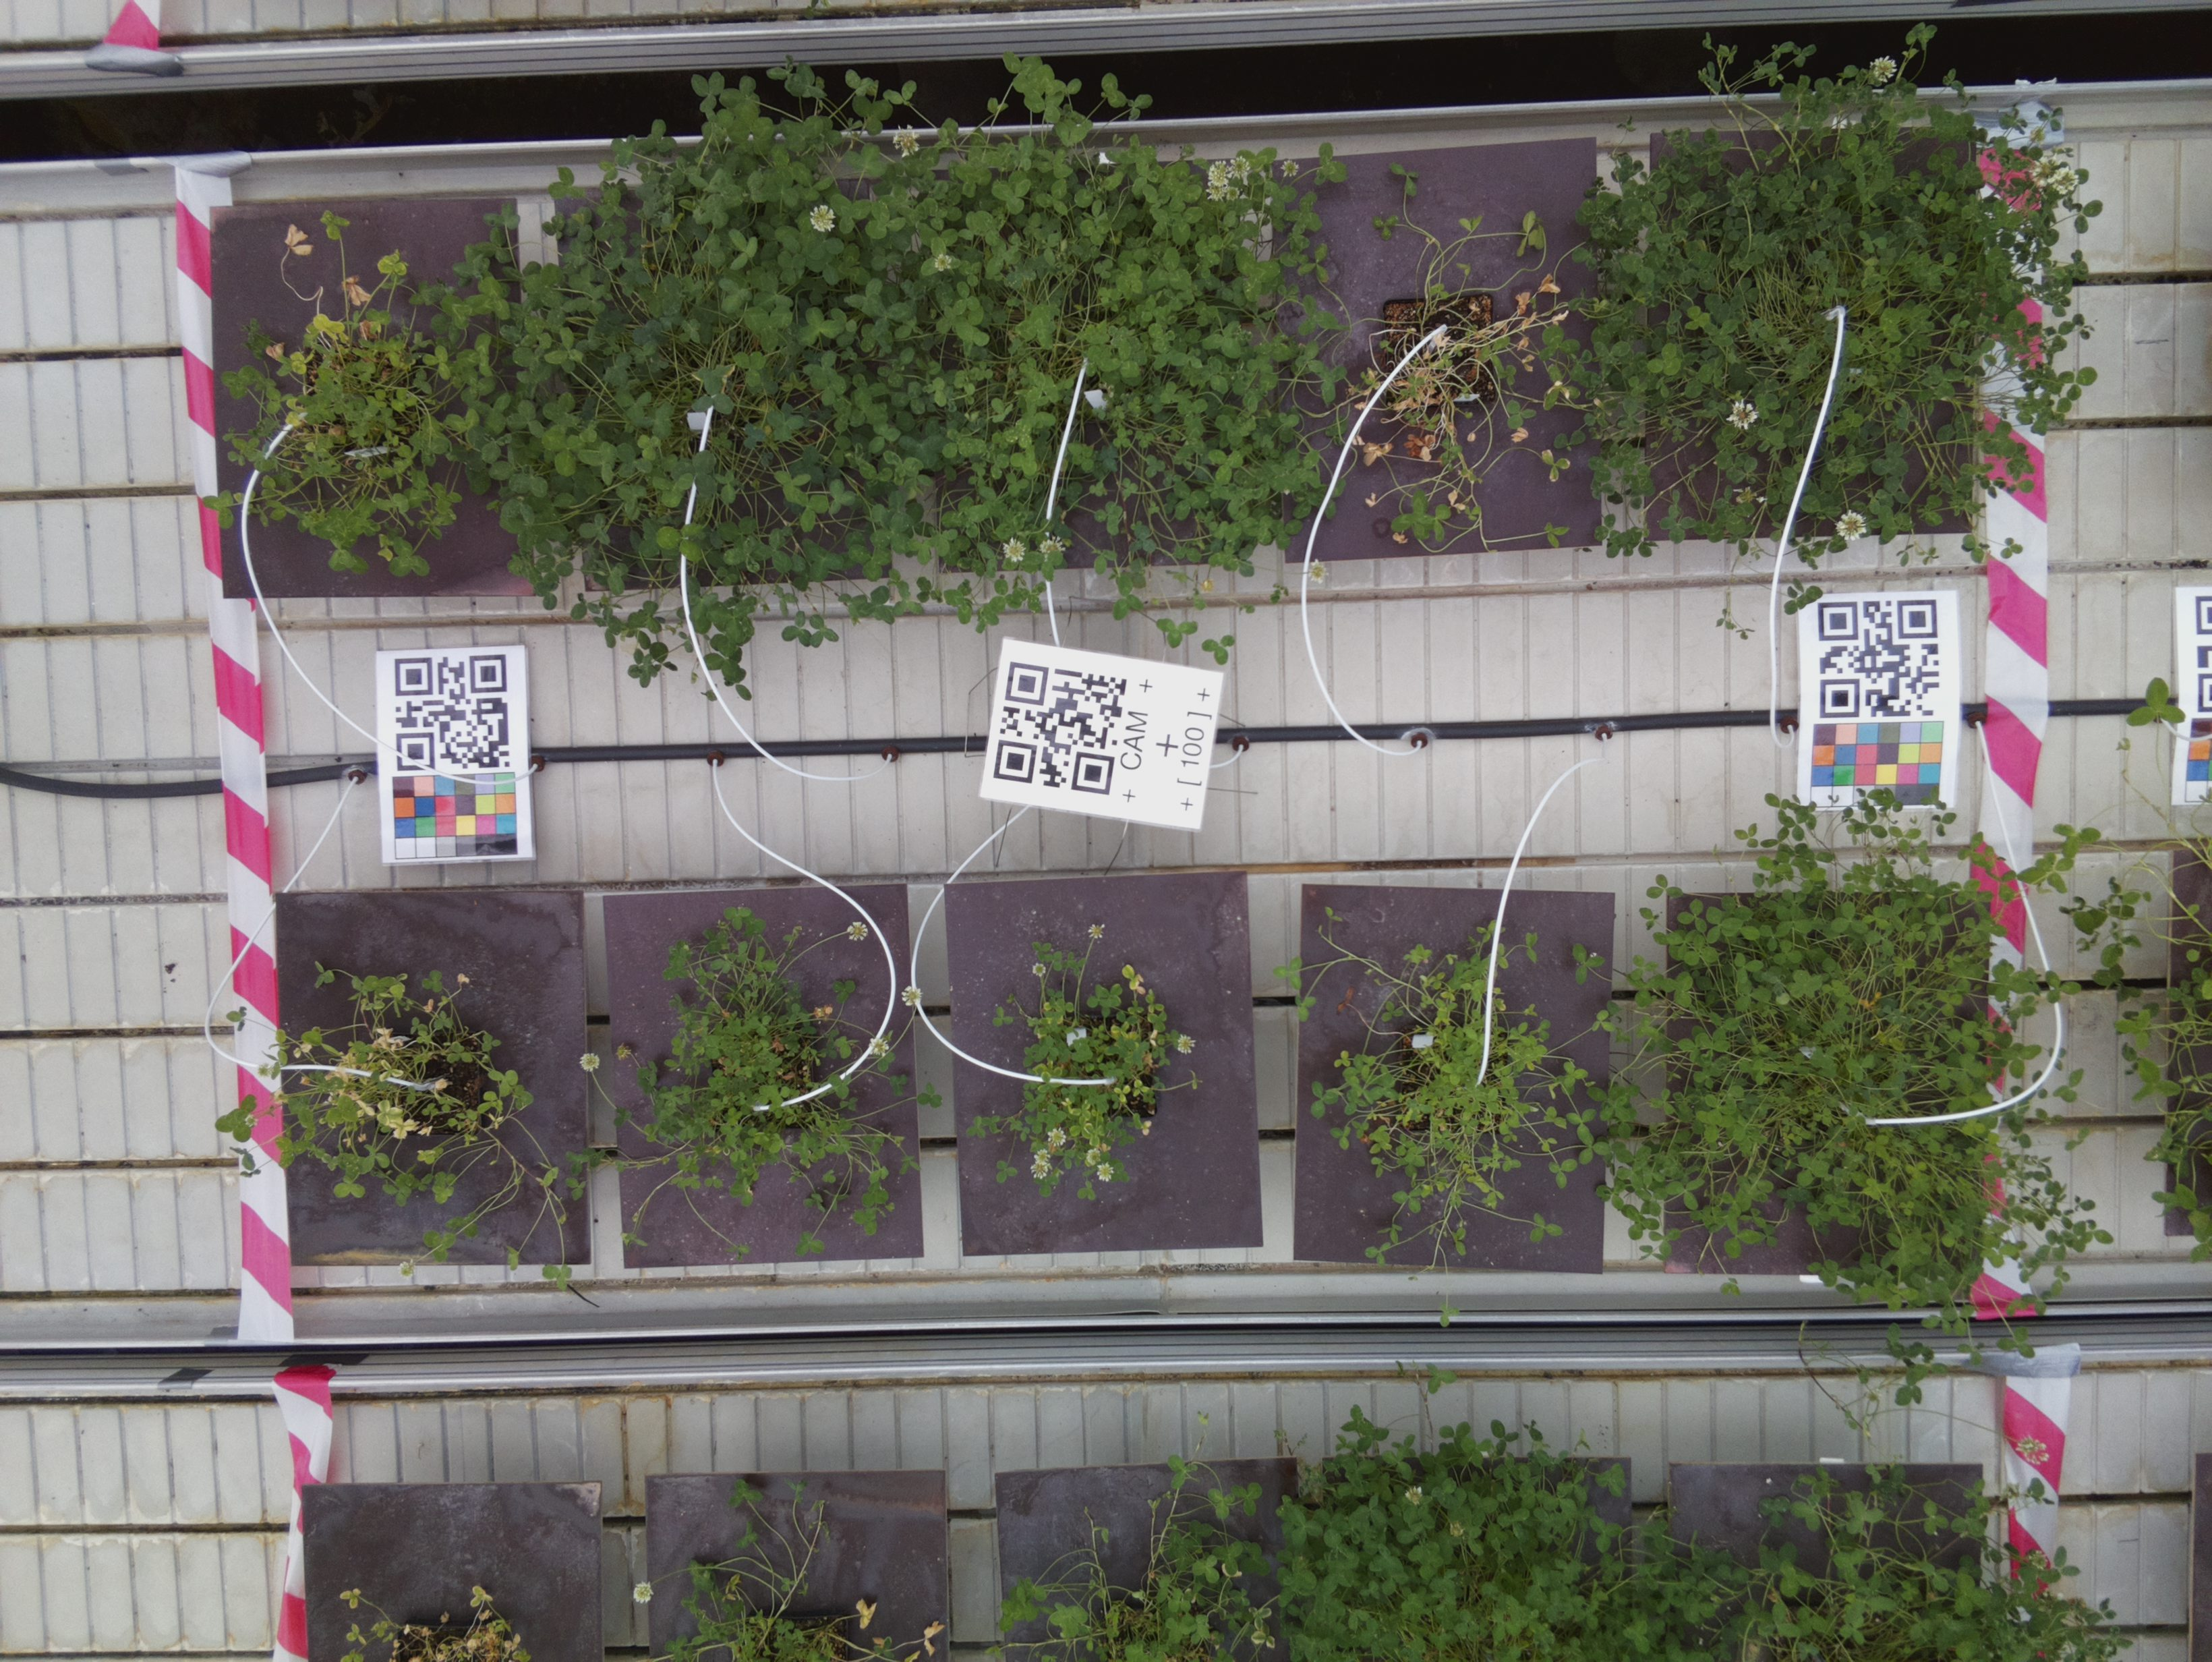POT: (546, 178, 887, 590), (1646, 126, 1978, 541), (917, 164, 1243, 571), (1269, 159, 1597, 552), (1660, 890, 1985, 1276), (210, 199, 524, 597), (1295, 882, 1610, 1278), (269, 890, 592, 1267), (941, 878, 1266, 1248), (604, 894, 924, 1262)
QRCODE: (969, 641, 1224, 836)
QRCOLOR: (1798, 594, 1955, 814), (374, 646, 531, 861)
